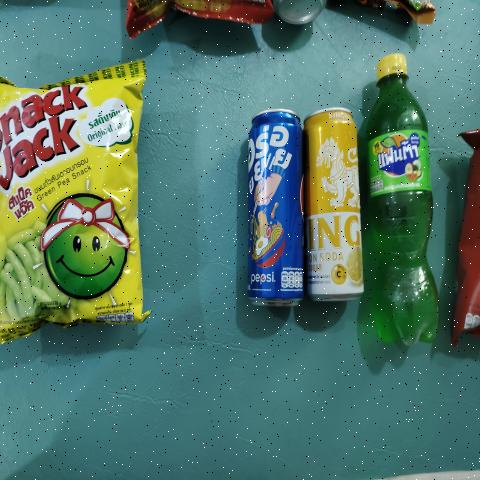fanta_green: (364, 44, 434, 374)
pepsi_blue: (247, 110, 310, 298)
singha_yellow: (310, 110, 360, 304)
snack_jack: (0, 93, 139, 320)
